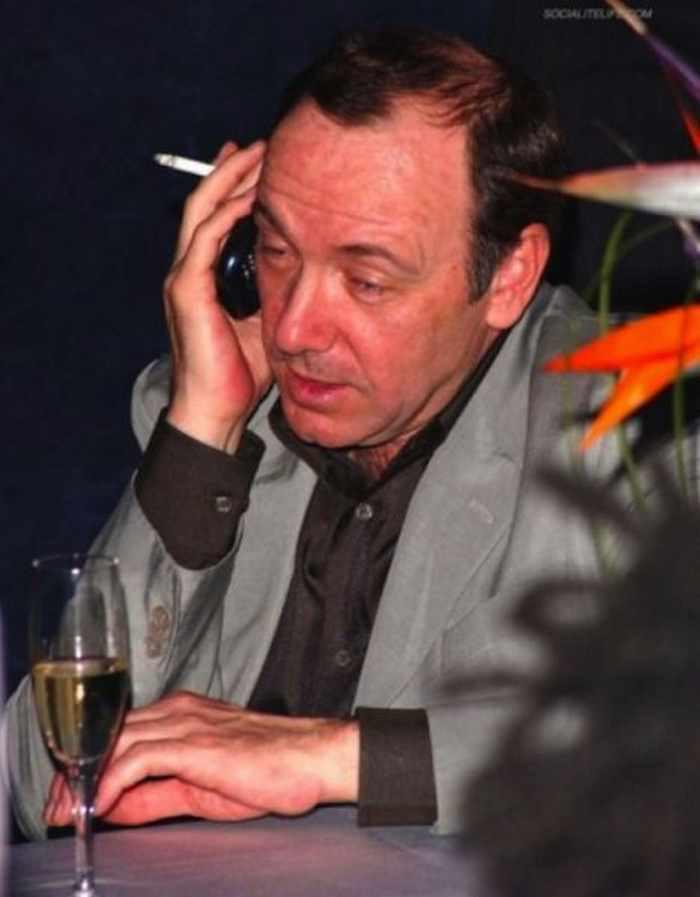Drunk: (251, 132, 457, 431)
